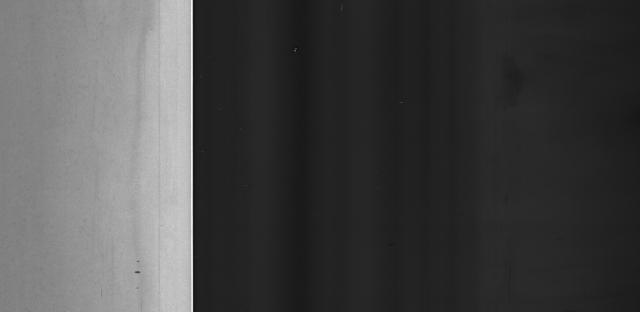inclusion: (132, 257, 146, 289)
